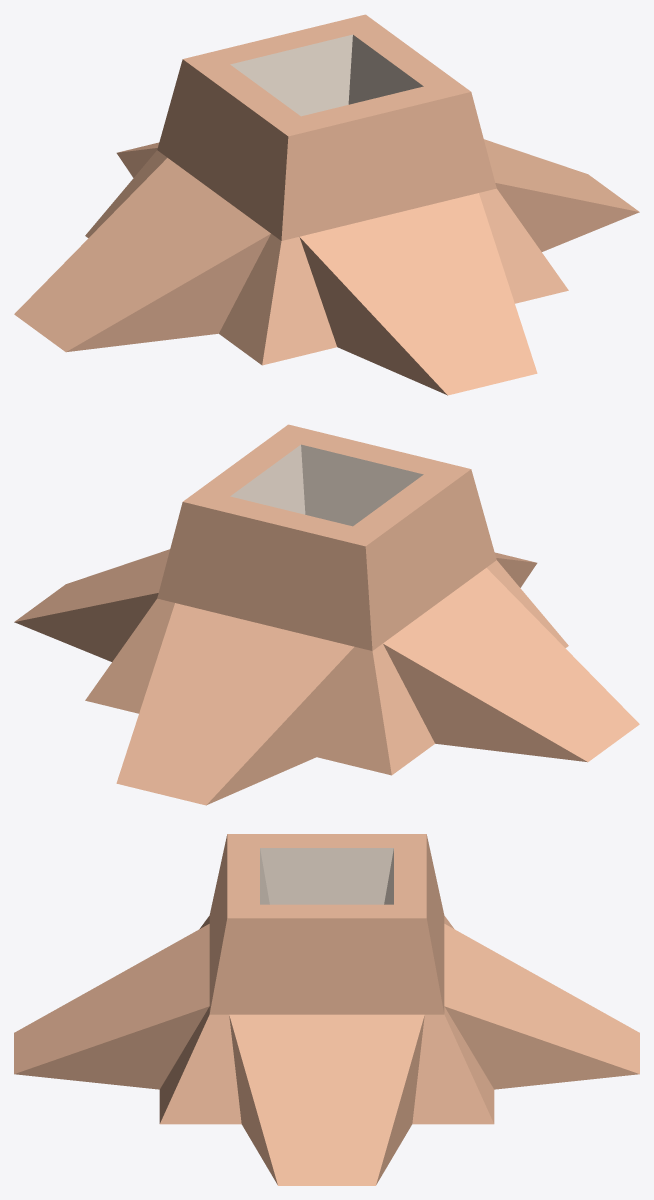
The model's file is stump_squareDetailedWide.gltf.
3 views of the same model, one above another, from view 1: azimuth 30°, elevation 25°; view 2: azimuth 150°, elevation 25°; view 3: azimuth 270°, elevation 25° (orthographic). The views are drawn at different scales.
Visible parts, largest first — view 1: stump_squareDetailedWide; view 2: stump_squareDetailedWide; view 3: stump_squareDetailedWide.
Boxes of the visible parts, x1,y1,x2,y2 form: stump_squareDetailedWide: [14, 14, 639, 395]; stump_squareDetailedWide: [14, 424, 639, 805]; stump_squareDetailedWide: [14, 834, 639, 1185].
Bounding box in the file's own units: 0.64 × 0.2 × 0.64.
